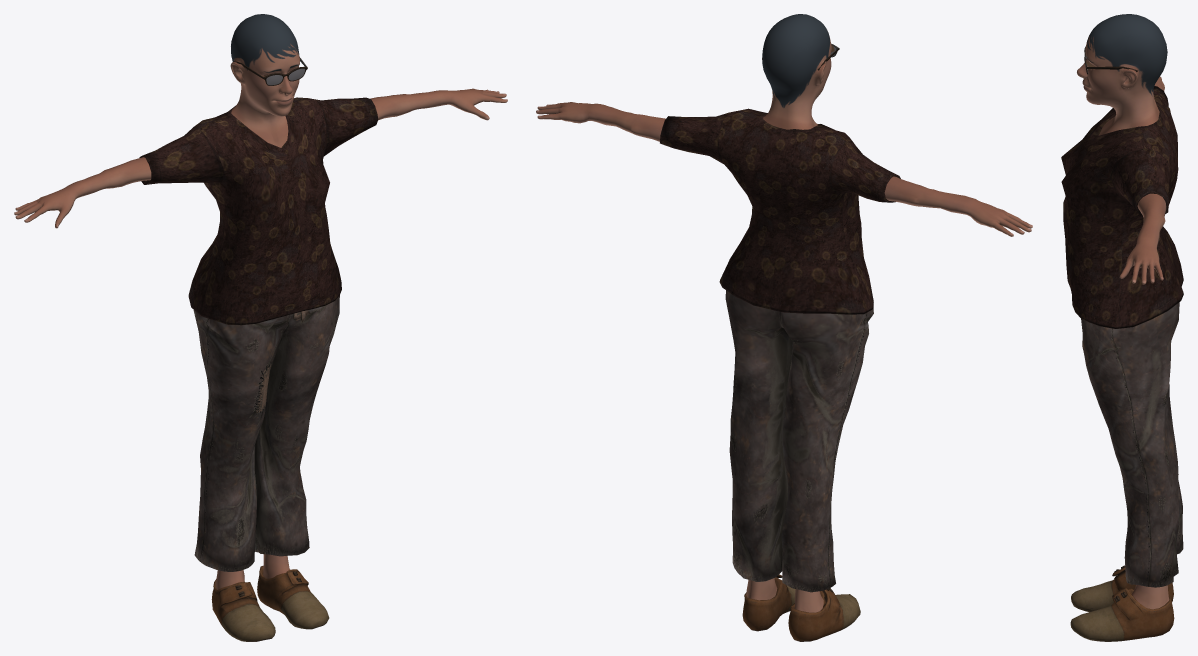
The model's file is female4.obj.
3 views of the same model, side by side, from view 1: azimuth 30°, elevation 25°; view 2: azimuth 150°, elevation 25°; view 3: azimuth 270°, elevation 25° (orthographic).
Parts seen in each view (by area): view 1: Tops, Bottoms, Body, Shoes; view 2: Bottoms, Tops, Body, Shoes; view 3: Tops, Bottoms, Body, Shoes, Eyewear.
Part boxes in pixels (left/top/right/bottom): Tops: left=139, top=97, right=378, bottom=325; Bottoms: left=193, top=295, right=339, bottom=571; Body: left=14, top=14, right=507, bottom=589; Shoes: left=211, top=566, right=329, bottom=641; Bottoms: left=725, top=290, right=873, bottom=592; Tops: left=660, top=108, right=900, bottom=314; Body: left=536, top=14, right=1032, bottom=612; Shoes: left=742, top=574, right=860, bottom=641; Tops: left=1061, top=86, right=1183, bottom=328; Bottoms: left=1081, top=302, right=1183, bottom=587; Body: left=1077, top=14, right=1169, bottom=609; Shoes: left=1070, top=565, right=1174, bottom=641; Eyewear: left=1084, top=46, right=1137, bottom=74.
Size of the model in its own units: 150 by 176 by 32.31.
Materials: 5 (5 with a texture image).
